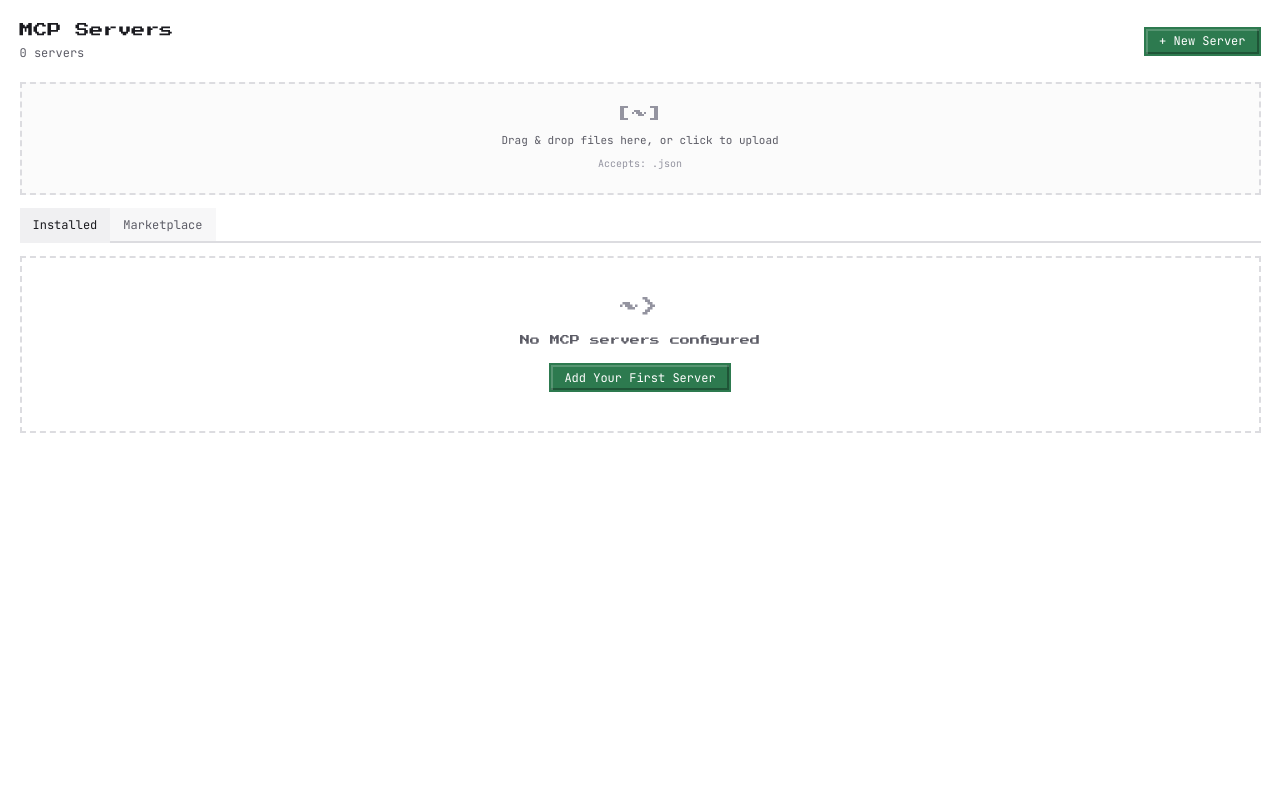
MCPServersPage › opens form modal when clicking "+ New Server"
Click the button "+ New Server": (1202, 41) top-left (1144, 26), bottom-right (1260, 56)
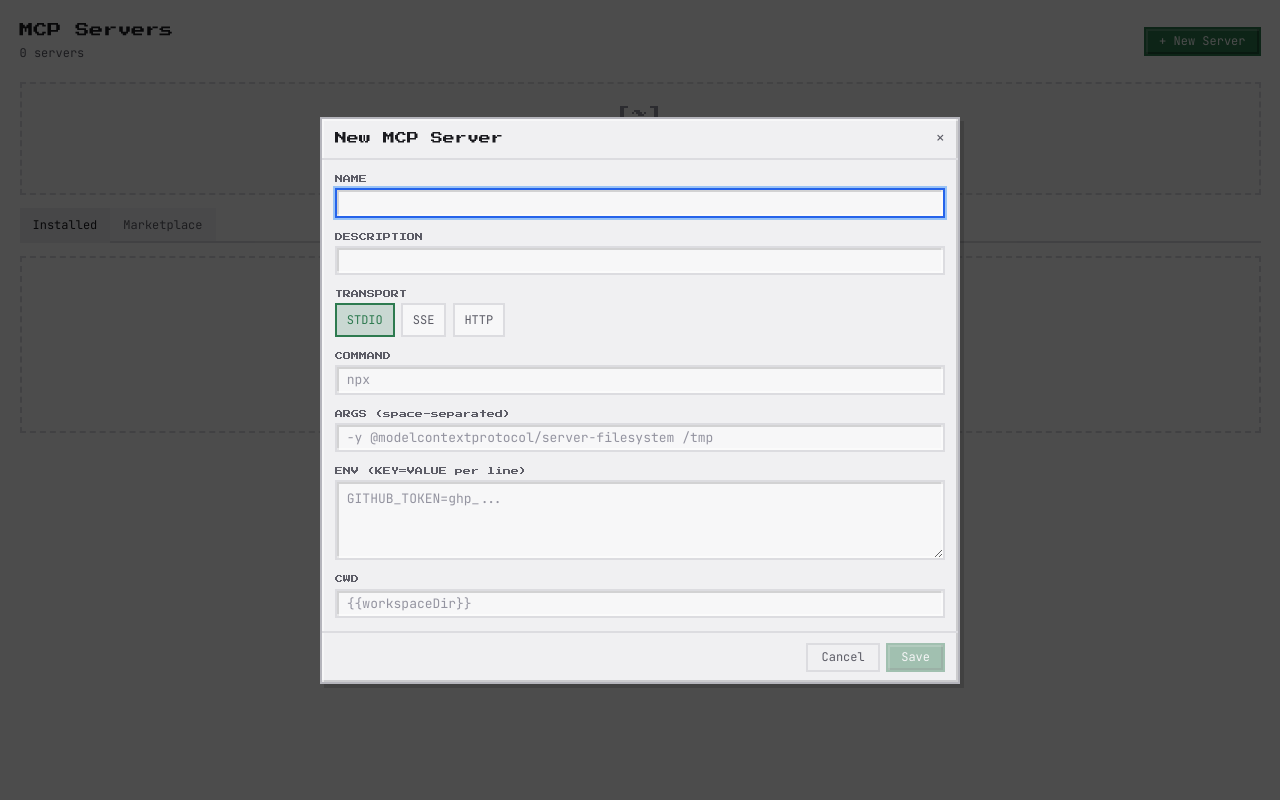
Result: the heading "New MCP Server" is shown at top-left (335, 128), bottom-right (503, 148)
